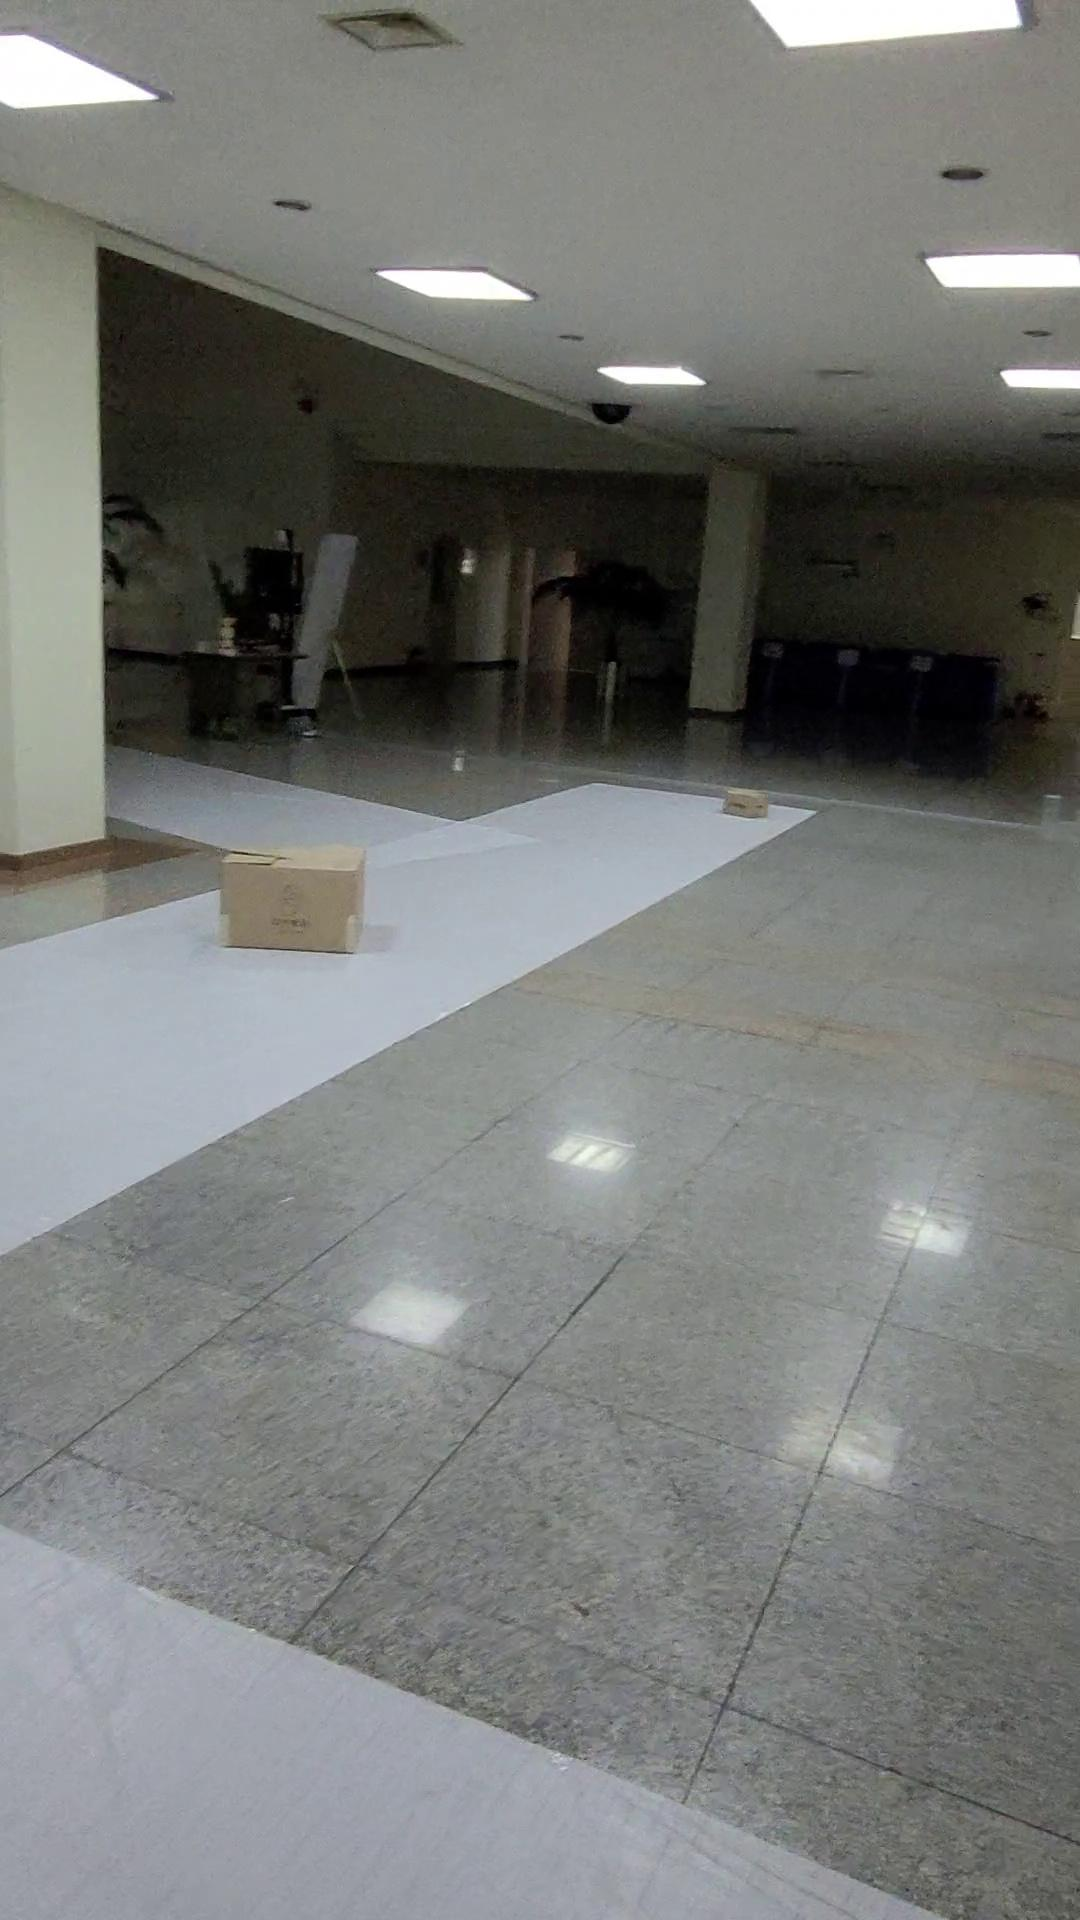Box: (181, 810, 396, 982), (694, 760, 785, 840)
